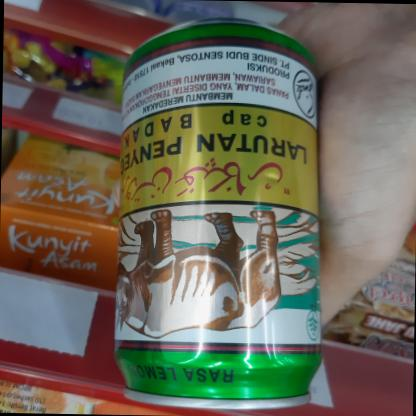alumunium_can: (92, 31, 362, 416)
